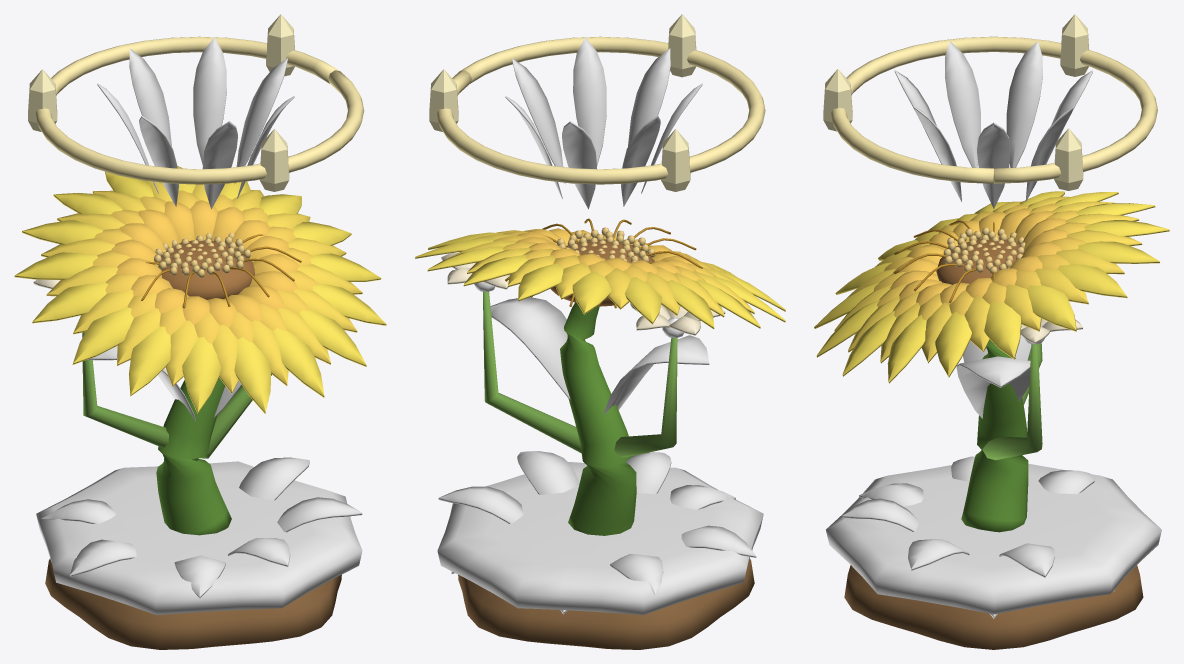
File: blossom-5.fbx
The picture shows the model from 3 angles, left to right: view 1: azimuth 30°, elevation 25°; view 2: azimuth 150°, elevation 25°; view 3: azimuth 270°, elevation 25°; orthographic projection.
Parts seen in each view (by area): view 1: FlowerHead_Petal, SuperPlinth, Ring03_SuperGlow, Turret_Metal, Turret_Bark, Base_Organic, Base_Leaf, Core_Organic, Turret_Petal, Petals_Leaf; view 2: SuperPlinth, FlowerHead_Petal, Turret_Bark, Ring03_SuperGlow, Turret_Metal, Base_Organic, Base_Leaf, Petals_Leaf, Turret_Petal, Core_Organic; view 3: FlowerHead_Petal, SuperPlinth, Ring03_SuperGlow, Turret_Metal, Base_Organic, Turret_Bark, Base_Leaf, Core_Organic, Petals_Leaf, Turret_Petal.
Part boxes in pixels (x1,y1,x2,y2): FlowerHead_Petal: (14, 166, 386, 413); SuperPlinth: (36, 461, 362, 615); Ring03_SuperGlow: (28, 14, 364, 191); Turret_Metal: (97, 37, 294, 209); Turret_Bark: (82, 332, 271, 535); Base_Organic: (45, 558, 341, 649); Base_Leaf: (41, 457, 362, 598); Core_Organic: (154, 232, 254, 299); Turret_Petal: (33, 234, 301, 308); Petals_Leaf: (87, 346, 241, 421); SuperPlinth: (437, 462, 763, 615); FlowerHead_Petal: (415, 228, 785, 329); Turret_Bark: (483, 291, 677, 535); Ring03_SuperGlow: (429, 14, 765, 191); Turret_Metal: (505, 37, 702, 209); Base_Organic: (458, 558, 754, 649); Base_Leaf: (438, 451, 756, 614); Petals_Leaf: (490, 297, 709, 414); Turret_Petal: (441, 218, 725, 335); Core_Organic: (550, 227, 654, 306); FlowerHead_Petal: (814, 191, 1169, 383); SuperPlinth: (826, 463, 1161, 614); Ring03_SuperGlow: (823, 14, 1157, 190); Turret_Metal: (894, 41, 1092, 208); Base_Organic: (844, 565, 1143, 649); Turret_Bark: (961, 340, 1042, 532); Base_Leaf: (842, 456, 1114, 618); Core_Organic: (936, 227, 1025, 284); Petals_Leaf: (956, 335, 1031, 418); Turret_Petal: (894, 220, 1082, 343).
Size of the model in its own units: 124 by 194 by 118.
